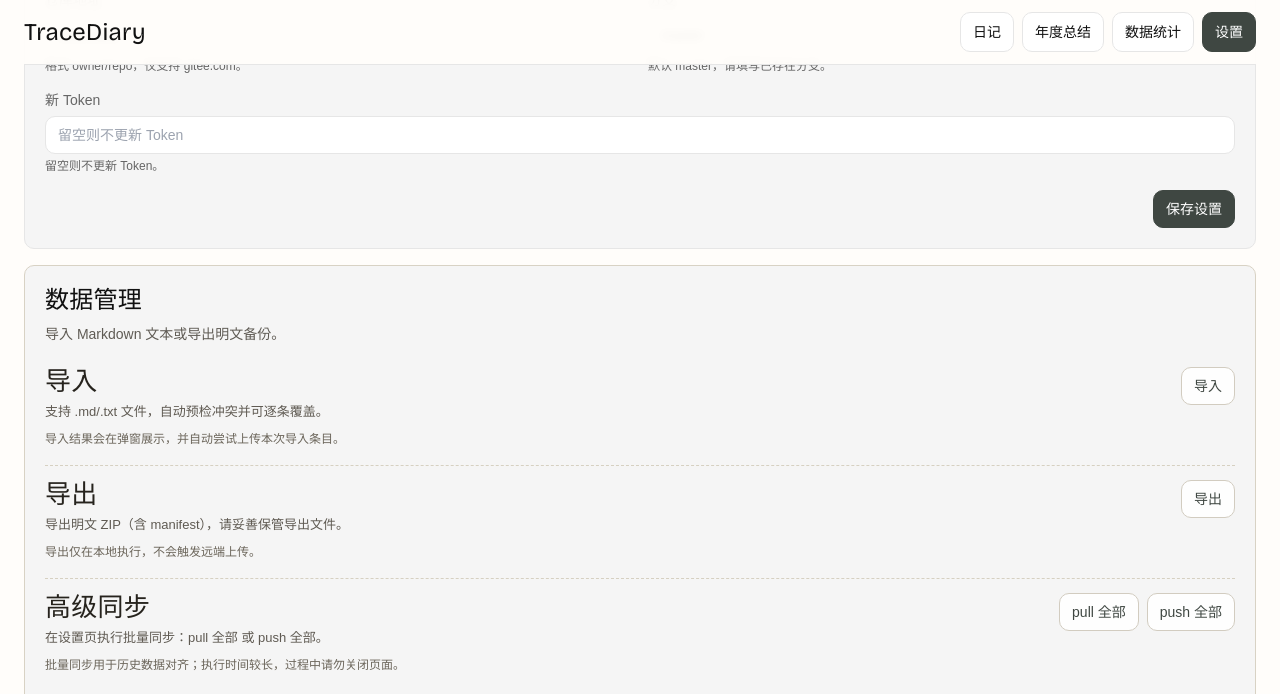
Test: 设置页导出入口 › 导出成功后应展示结果摘要与文件名
The width and height of the screenshot is (1280, 694).
(page scrolled)
Click the button with test id "settings-export-button".
click(1208, 499)  # box x1=1181 y1=480 x2=1235 y2=518
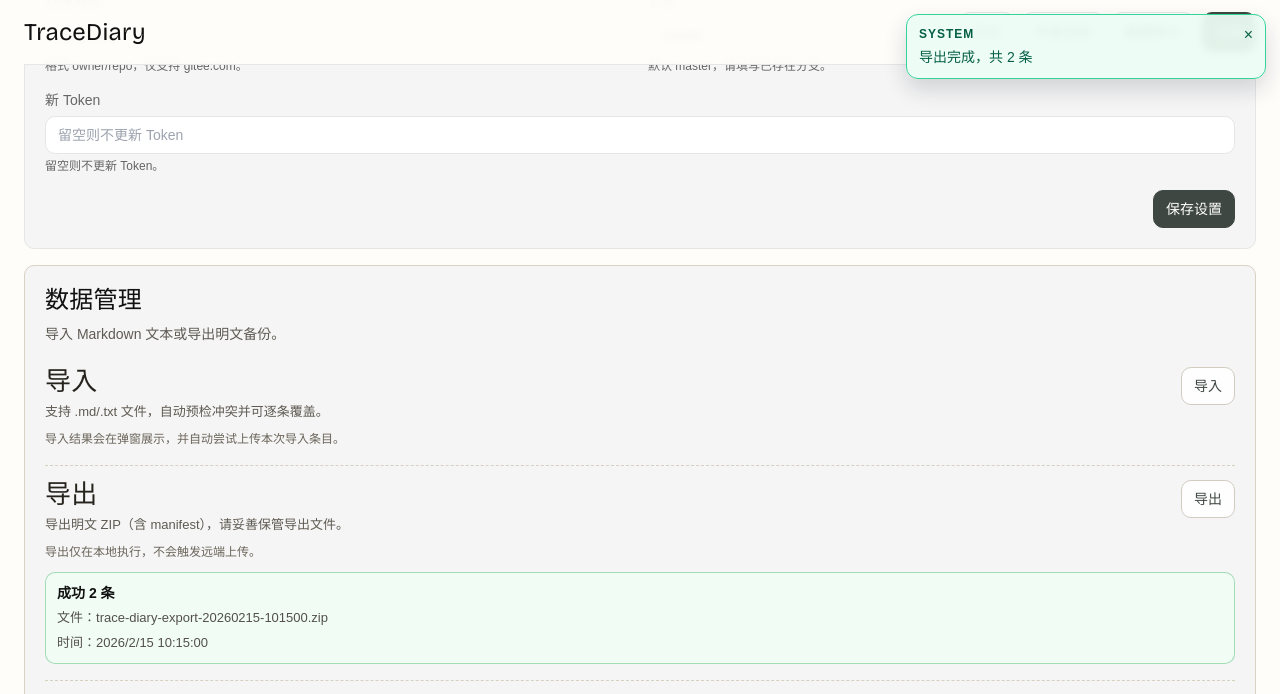
Result: the element with test id "settings-export-result" shows "成功 2 条" at x1=57 y1=585 x2=115 y2=601
Result: the text with test id "settings-export-archive-name" shows "trace-diary-export-20260215-101500.zip" at x1=96 y1=610 x2=328 y2=625
